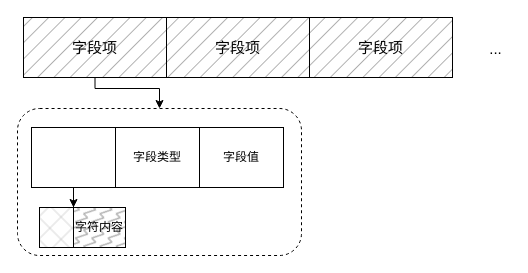
The diagram is 528 pixels wide and 273 high, and some of its shapes have lost their labels. The centre of each missing label's shape, as x and y in pixels:
"字段名称" goes at point (73, 157).
"字符长度" goes at point (56, 227).
